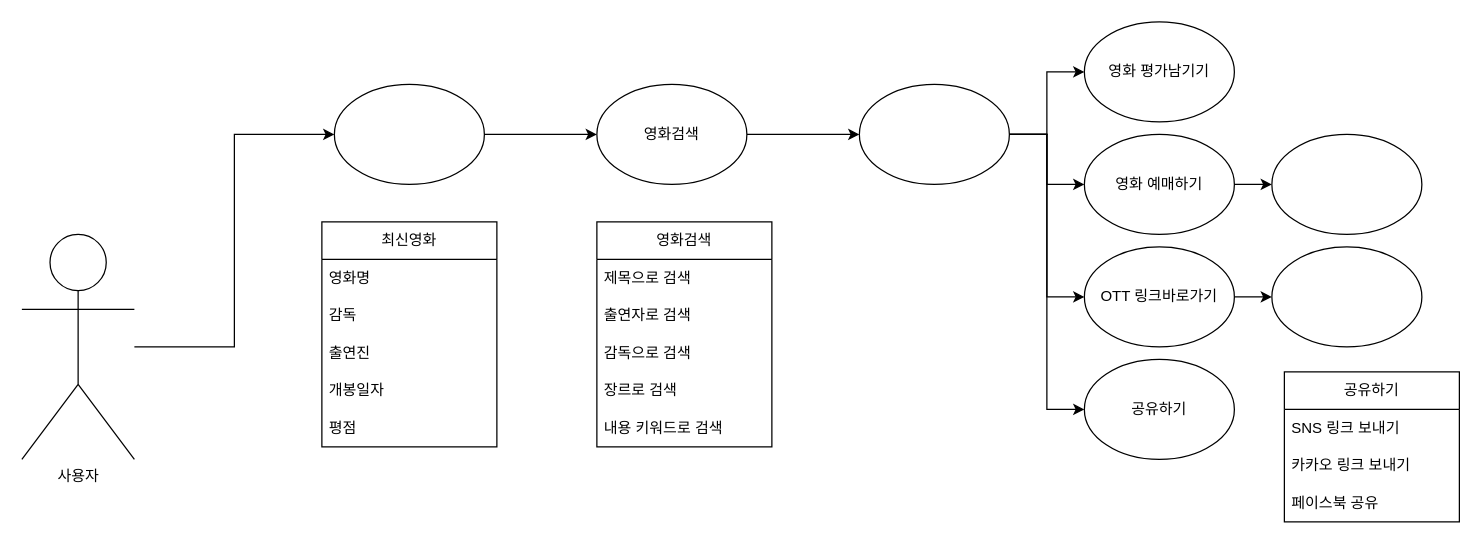
The diagram is 1481 pixels wide and 544 high, and some of its shapes have lost their labels. The centre of each missing label's shape, as x and y in pixels:
"OTT 연결" goes at pixel 1346 296.
"시작화면" goes at pixel 408 133.
"자세히보기" goes at pixel 933 133.
"제휴영화관 링크연결" goes at pixel 1346 183.
